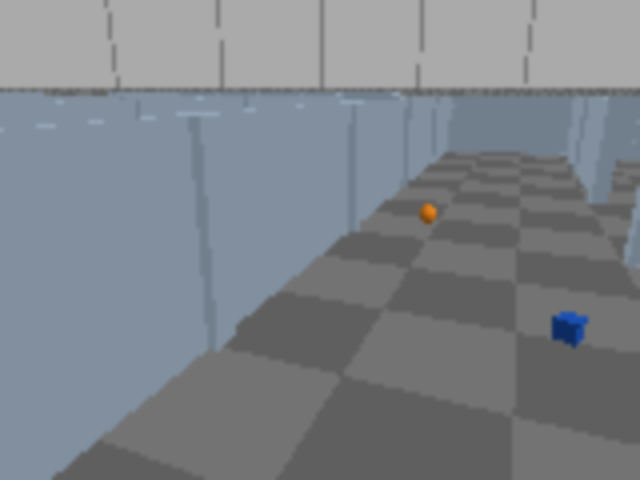puck: (550, 310, 587, 346), (416, 203, 440, 227)
